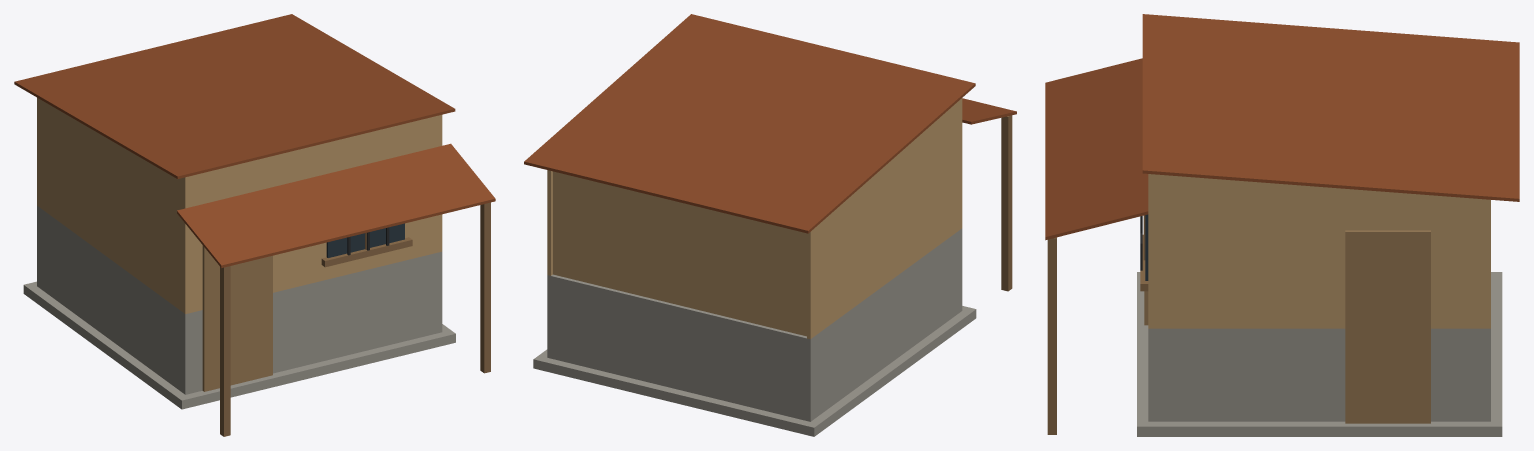
Rendered from BAY_I_SariSari_K.glb.
The picture shows the model from 3 angles, left to right: view 1: azimuth 30°, elevation 25°; view 2: azimuth 150°, elevation 25°; view 3: azimuth 270°, elevation 25°; orthographic projection. The views are drawn at different scales.
Visible parts, largest first — view 1: BAY_I_SariSari_K; view 2: BAY_I_SariSari_K; view 3: BAY_I_SariSari_K.
Boxes of the visible parts, x1,y1,x2,y2 form: BAY_I_SariSari_K: (14, 14, 495, 436); BAY_I_SariSari_K: (524, 14, 1016, 436); BAY_I_SariSari_K: (1045, 14, 1519, 436).
Bounding box in the file's own units: 3.24 × 2.58 × 4.15.
1 material, 1 textured.
